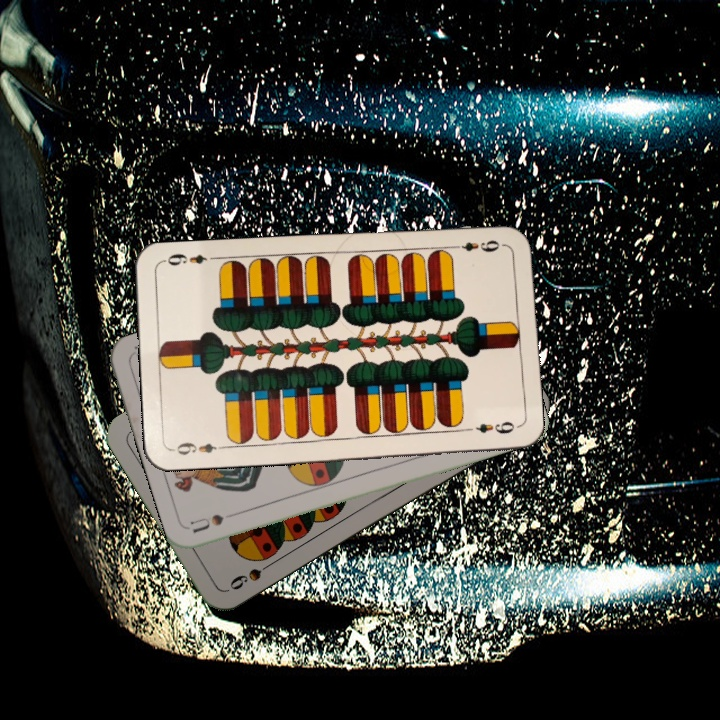E9: (169, 438, 228, 457), (449, 236, 502, 254)
S9: (225, 556, 278, 593)
SU: (187, 506, 247, 536)
